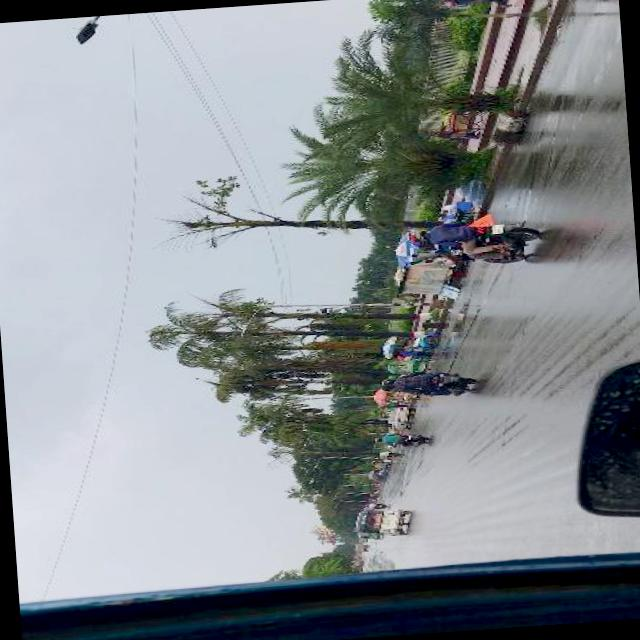car: (385, 404, 415, 429)
motorcycle: (401, 213, 544, 269), (376, 366, 476, 400), (348, 504, 412, 538), (372, 428, 430, 448), (383, 354, 436, 374), (362, 498, 388, 508), (356, 529, 382, 539)
truck: (352, 542, 368, 552)
